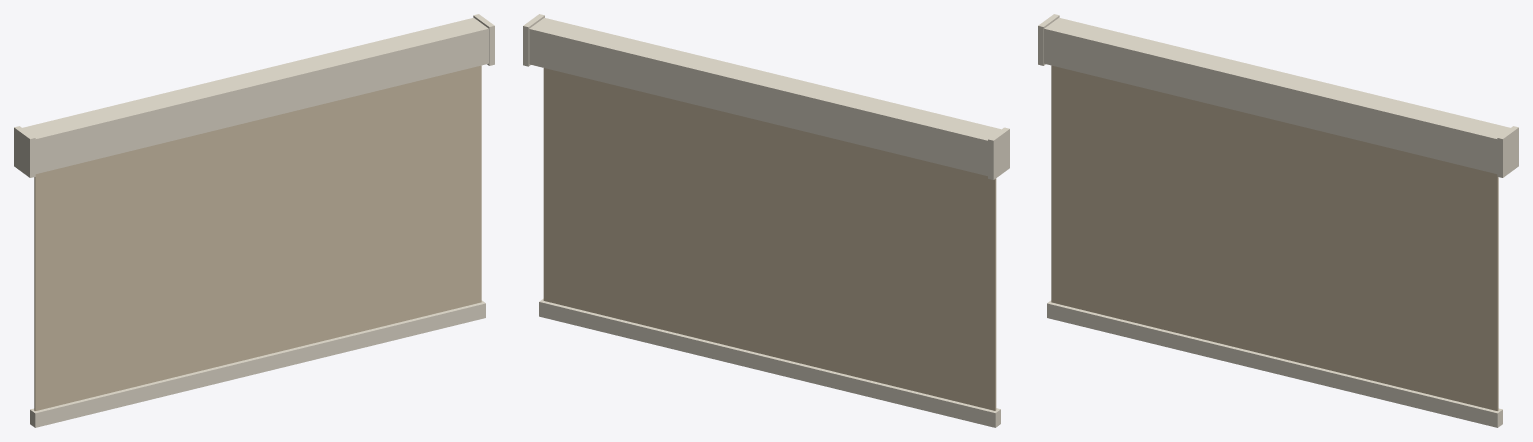
The model's file is roller-blind-linen.glb.
The picture shows the model from 3 angles, left to right: view 1: azimuth 30°, elevation 25°; view 2: azimuth 150°, elevation 25°; view 3: azimuth 330°, elevation 25°; orthographic projection.
Parts seen in each view (by area): view 1: roller-blind-linen; view 2: roller-blind-linen; view 3: roller-blind-linen.
Part boxes in pixels (<box>): roller-blind-linen: <box>14,14,494,427</box>; roller-blind-linen: <box>523,14,1009,427</box>; roller-blind-linen: <box>1038,14,1518,427</box>.
Size of the model in its own units: 1 by 0.6 by 0.06.
